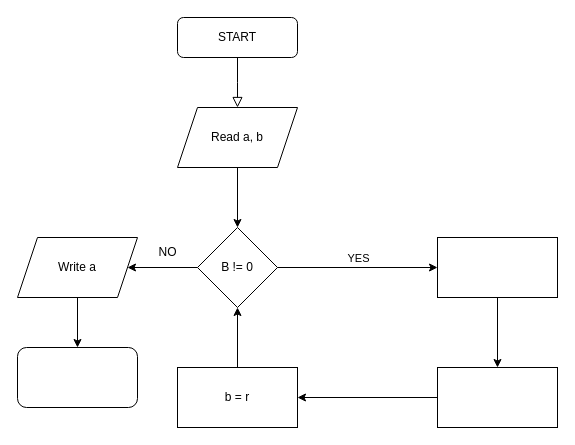
Image size: 575x445. Some labels were removed from this diagram. The centre of each missing label's shape, as x and y in pixels:
"a = b" goes at pixel 497 397.
"END" goes at pixel 77 377.
"r = a/b" goes at pixel 497 267.
